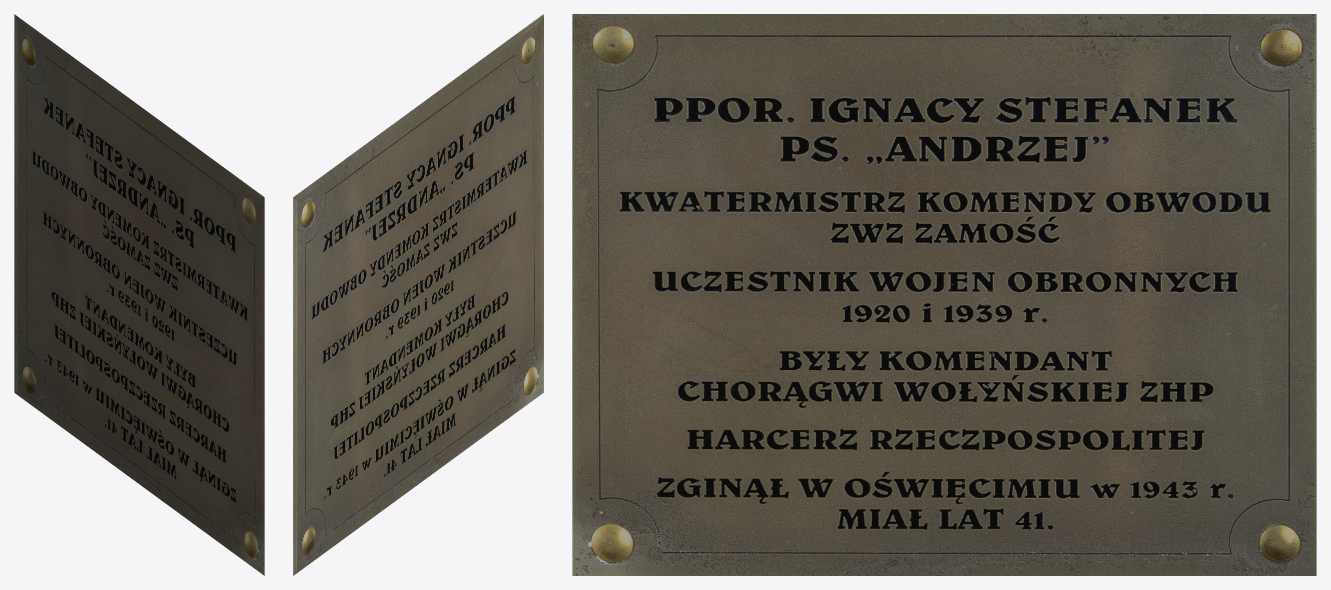
File: 49. ŚP. ppor. IGNACY STEFANEK.glb
The picture shows the model from 3 angles, left to right: view 1: azimuth 30°, elevation 25°; view 2: azimuth 150°, elevation 25°; view 3: azimuth 270°, elevation 25°; orthographic projection. The views are drawn at different scales.
Visible parts, largest first — view 1: Plane; view 2: Plane; view 3: Plane.
Part boxes in pixels (<box>): Plane: <box>14,14,264,575</box>; Plane: <box>293,14,543,575</box>; Plane: <box>572,14,1316,575</box>.
Bounding box in the file's own units: 0.0102 × 15 × 18.
1 material, 1 textured.
